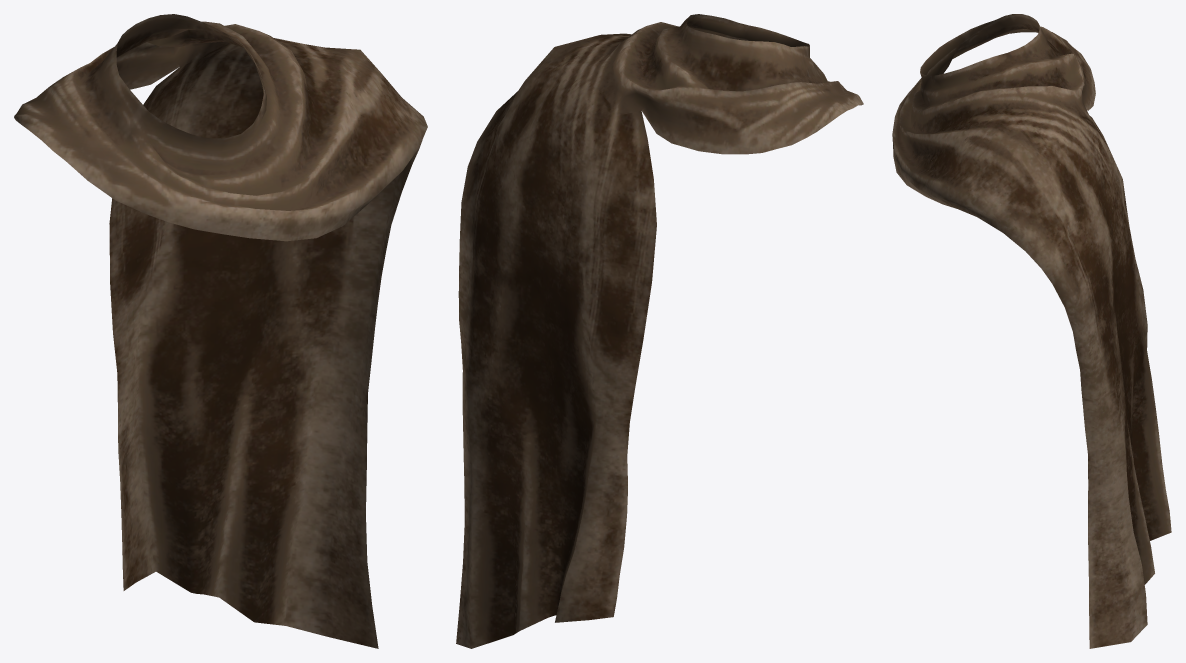
File: dunland_caerdh_cape_short_a.fbx
3 views of the same model, side by side, from view 1: azimuth 30°, elevation 25°; view 2: azimuth 150°, elevation 25°; view 3: azimuth 270°, elevation 25° (orthographic). The views are drawn at different scales.
Parts seen in each view (by area): view 1: dunland_caerdh_cape_short_a; view 2: dunland_caerdh_cape_short_a; view 3: dunland_caerdh_cape_short_a.
Boxes of the visible parts, x1=… form: dunland_caerdh_cape_short_a: x1=14, y1=14, x2=427, y2=648; dunland_caerdh_cape_short_a: x1=456, y1=14, x2=863, y2=648; dunland_caerdh_cape_short_a: x1=892, y1=14, x2=1171, y2=648.
Bounding box in the file's own units: 0.4612 × 0.3738 × 0.7842.
1 material, 1 textured.
